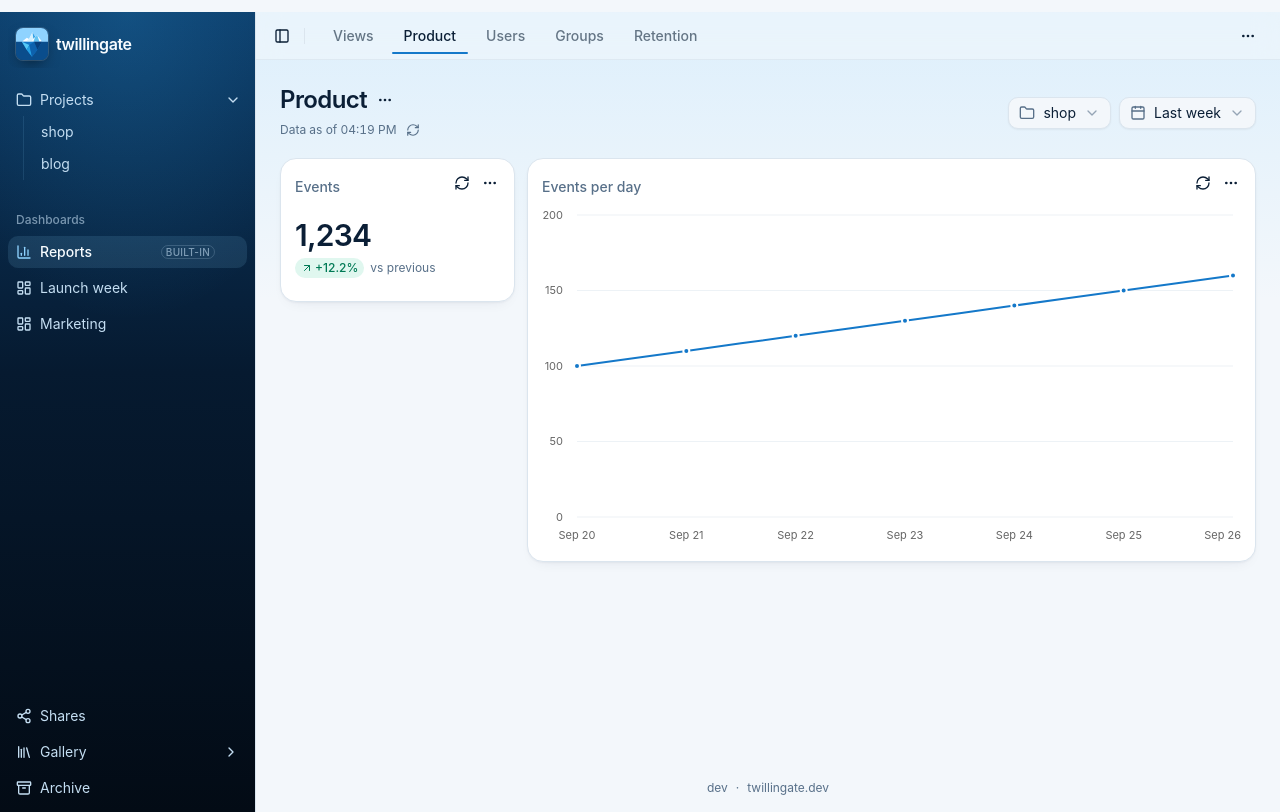
Test: Dashboard › saves a new range and puts it in the URL
Click the button with aria-label "Range: Last week" at (1188, 113), box [1119,97,1256,129]
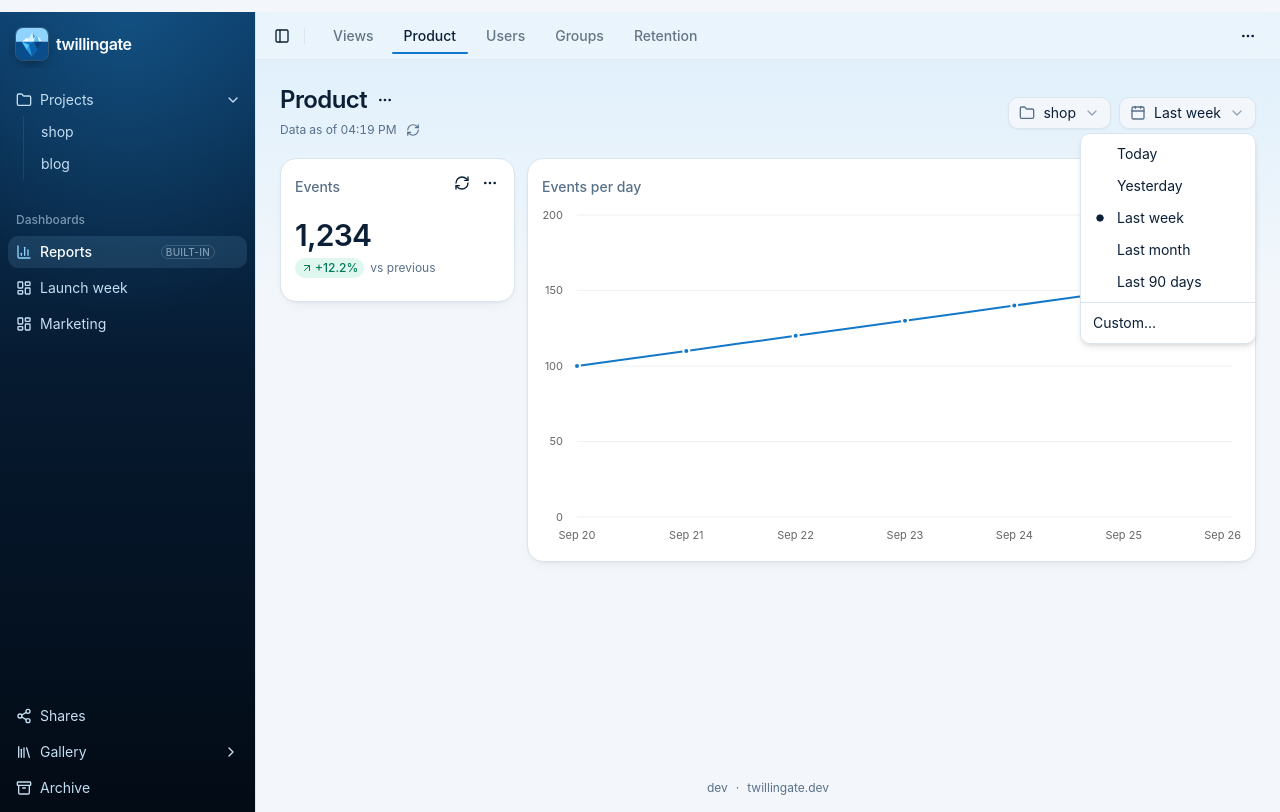
Click the menu item "Last month" at (1154, 250), box [1117,241,1190,258]
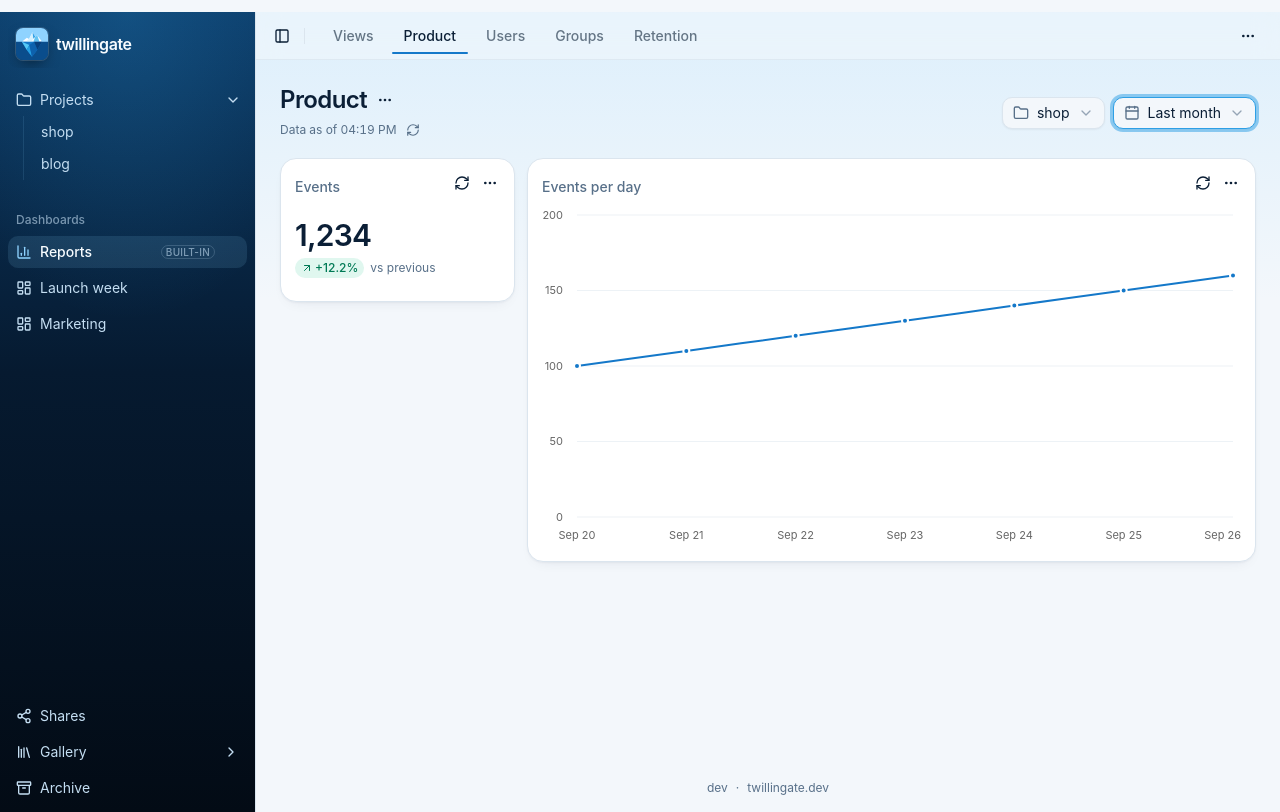
Now the button with aria-label "Range: Last month" is shown, box [1112,97,1256,129]
